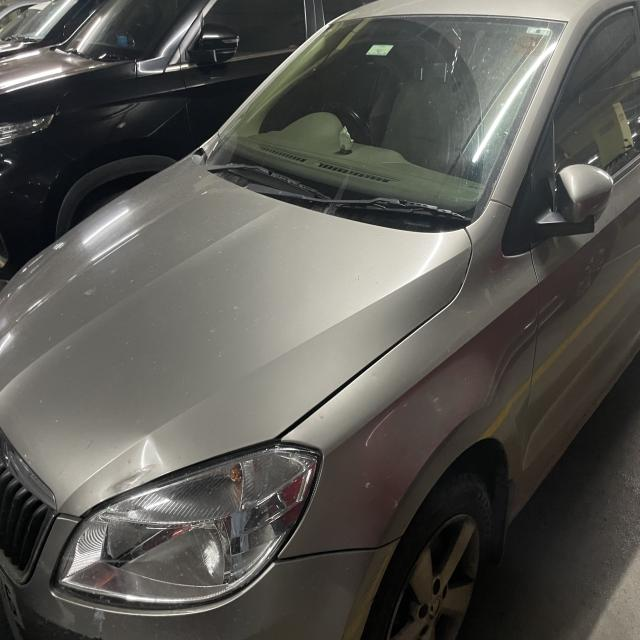scratch: (106, 460, 163, 494)
